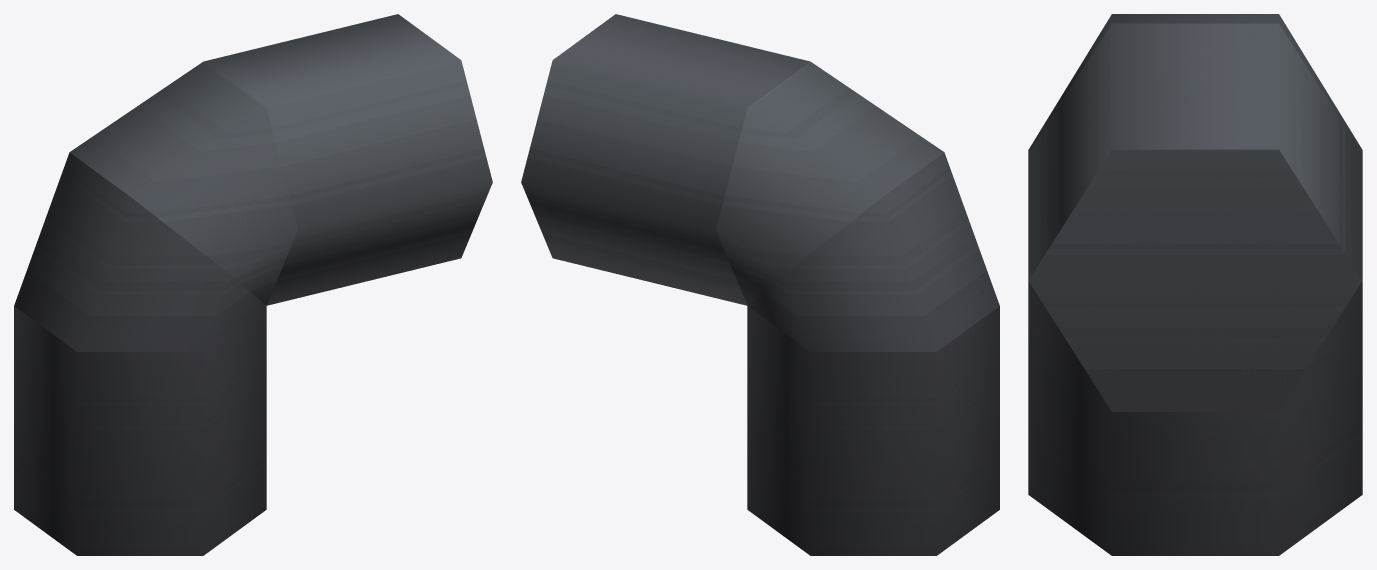
File: s_pipe_bend.glb
3 views of the same model, side by side, from view 1: azimuth 30°, elevation 25°; view 2: azimuth 150°, elevation 25°; view 3: azimuth 270°, elevation 25° (orthographic). The views are drawn at different scales.
Parts seen in each view (by area): view 1: pipe-bend; view 2: pipe-bend; view 3: pipe-bend.
Part boxes in pixels (left/top/right/bottom): pipe-bend: left=14, top=14, right=492, bottom=555; pipe-bend: left=521, top=14, right=999, bottom=555; pipe-bend: left=1028, top=14, right=1362, bottom=555.
Size of the model in its own units: 0.5 by 0.5 by 0.2845.
Materials: 1 (1 with a texture image).
